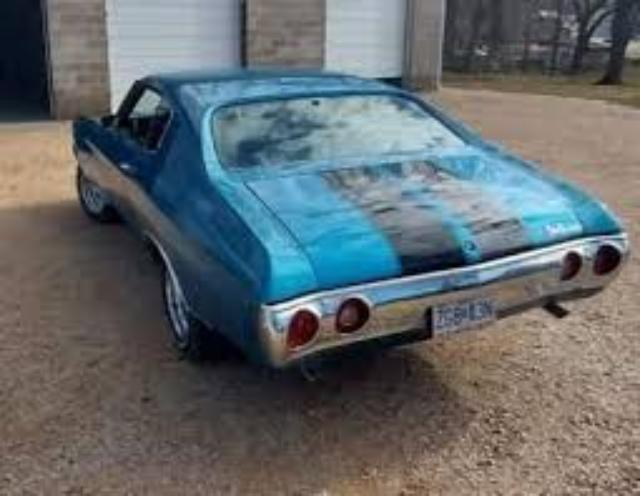chevelle-1972: (75, 68, 627, 369)
